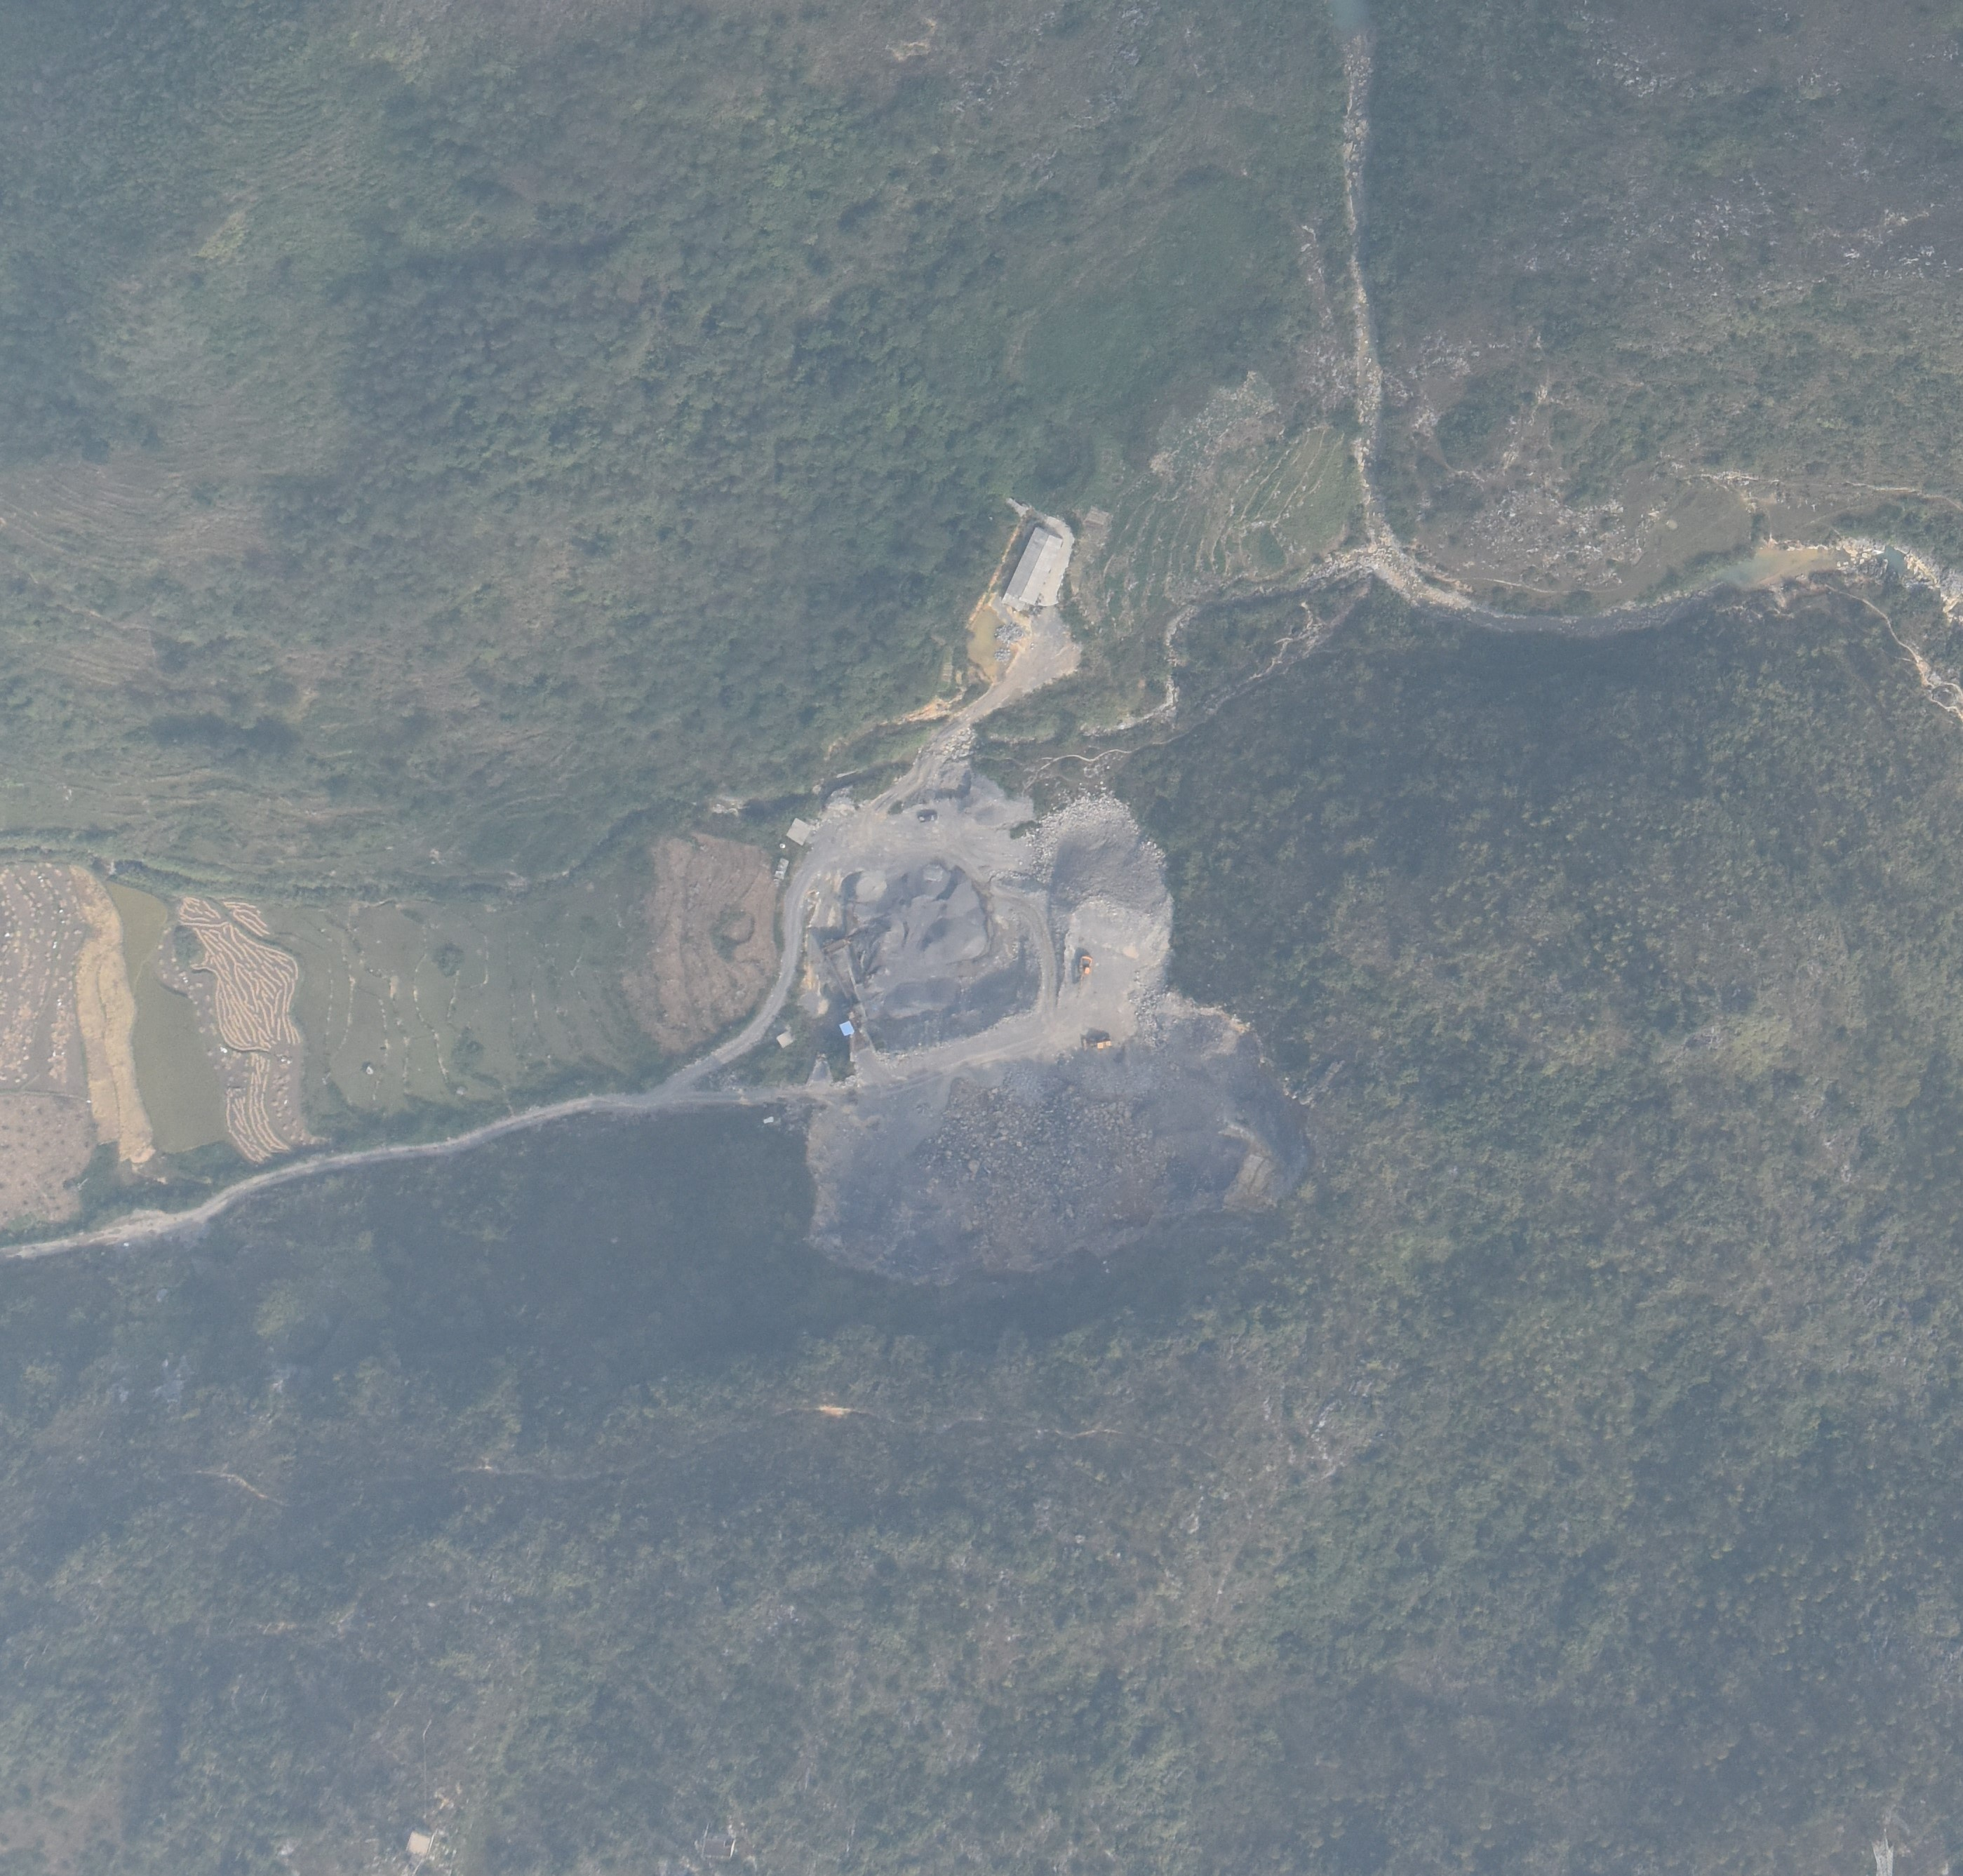building: (1006, 528, 1061, 603)
prefabricated-house: (838, 1021, 855, 1036)
quarry: (780, 508, 1264, 1282)
vehicle: (1078, 956, 1091, 990), (1082, 1038, 1111, 1050), (918, 812, 937, 823)
